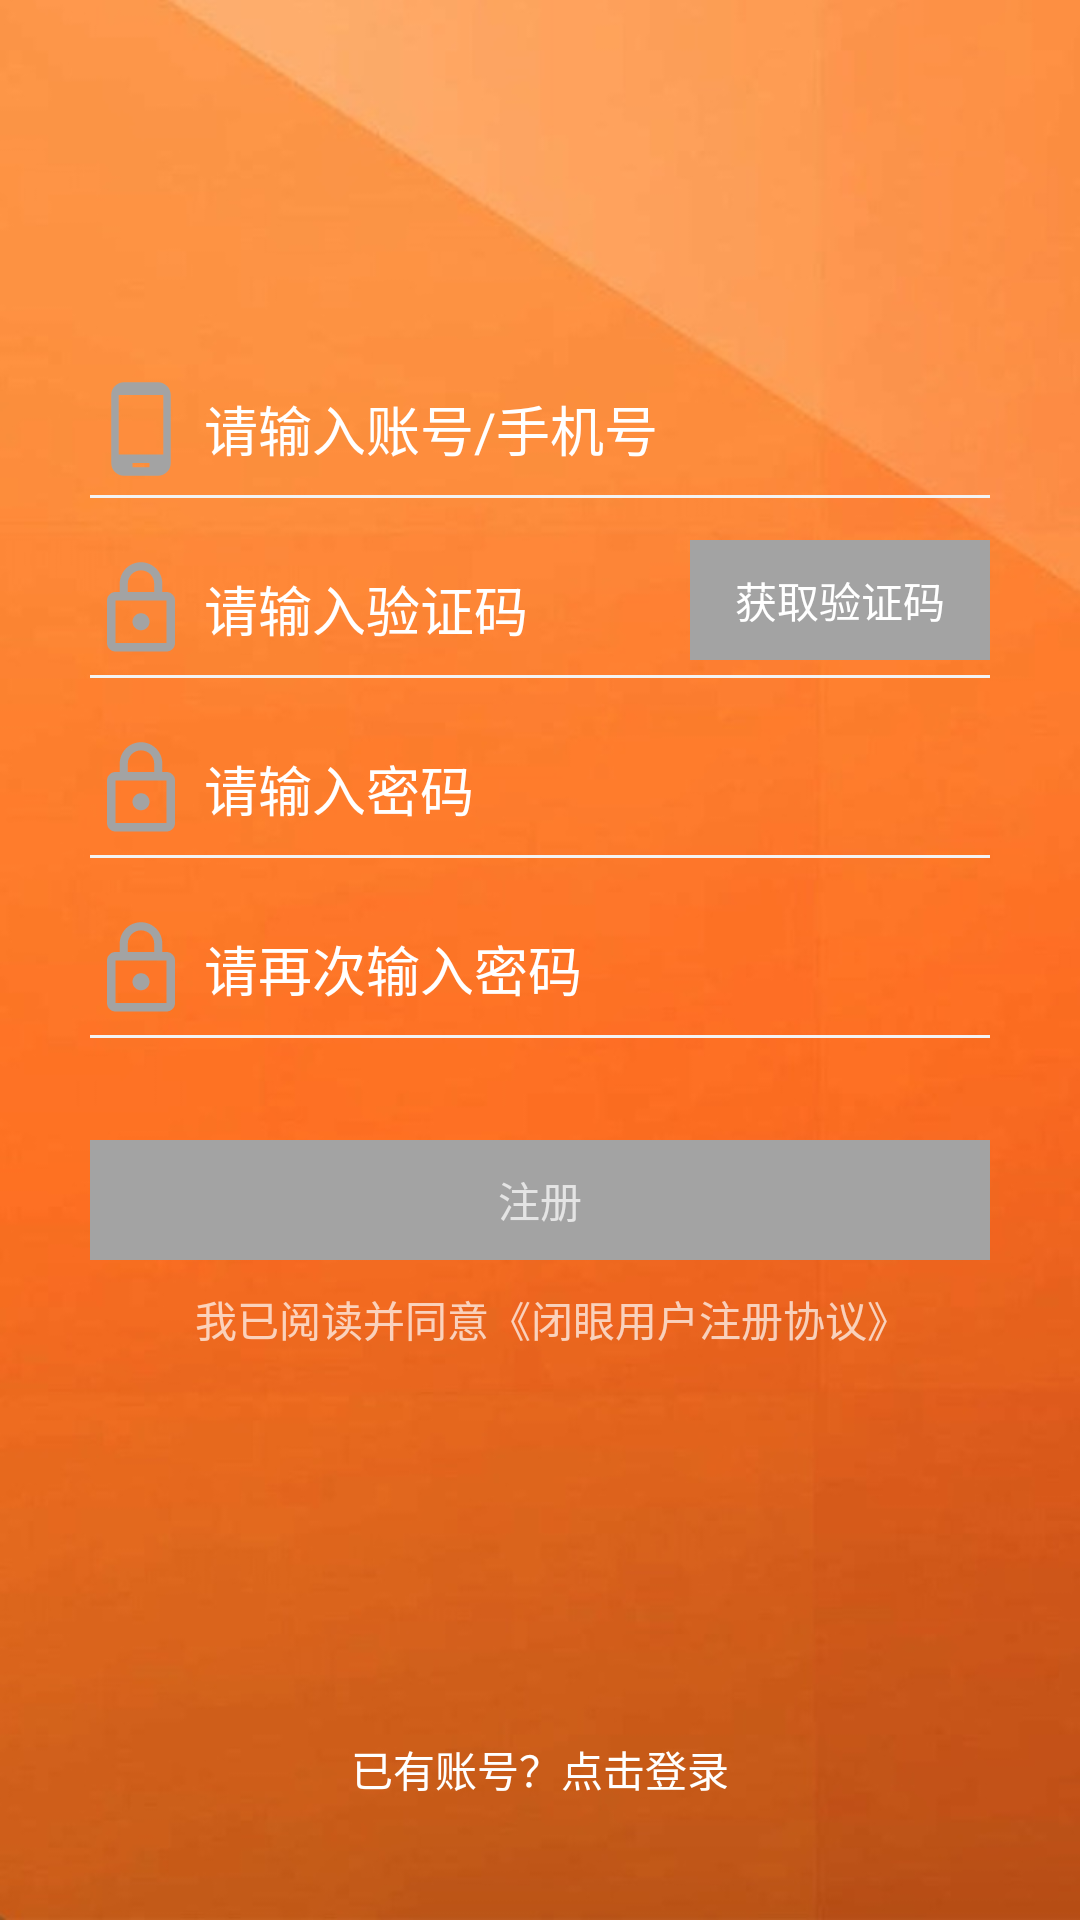

Named icons in this screenshot (1080×1920) and their centers, point (x, y):
login account: point (141, 429)
login pass: point (141, 607), point (141, 787), point (141, 967)
